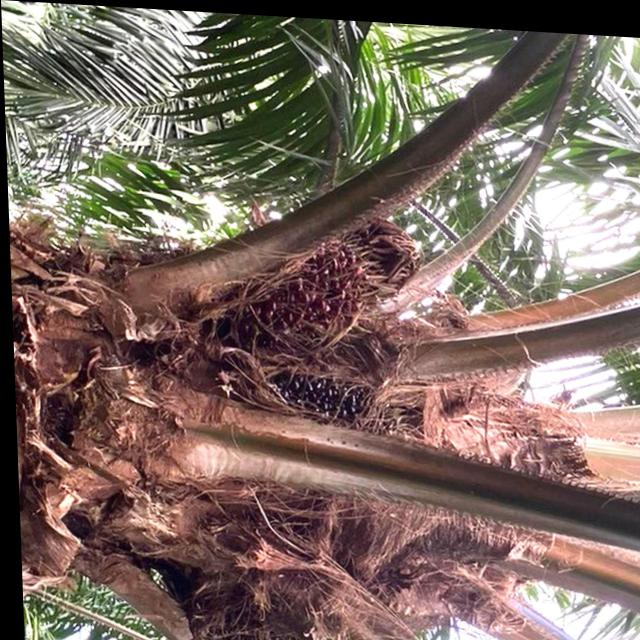ripe: (216, 236, 368, 343)
